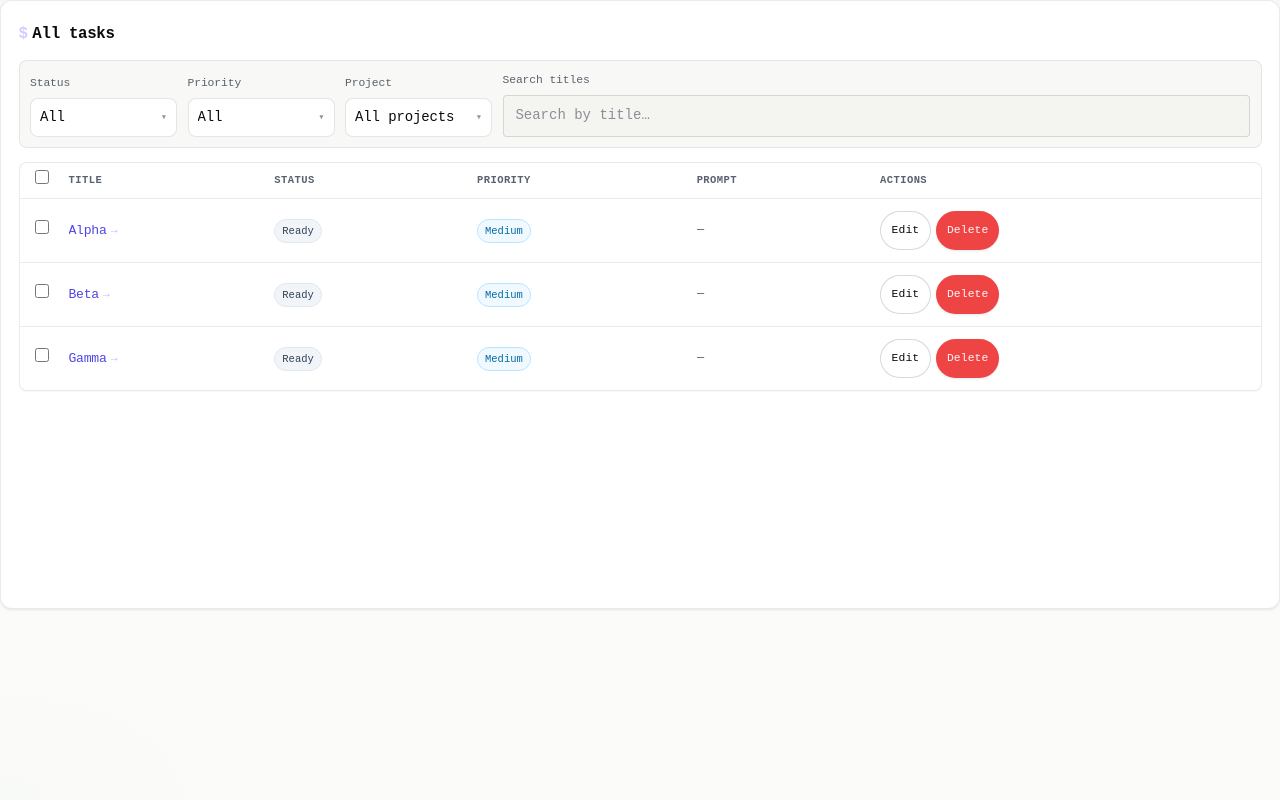
Scenario: TaskListSection › bulk reschedule › Reschedule bulk action PATCHes every selected task with the same ISO
Step 1. Click the checkbox with test id "task-list-select-row-a" → (42, 227), box [35,220,49,234]
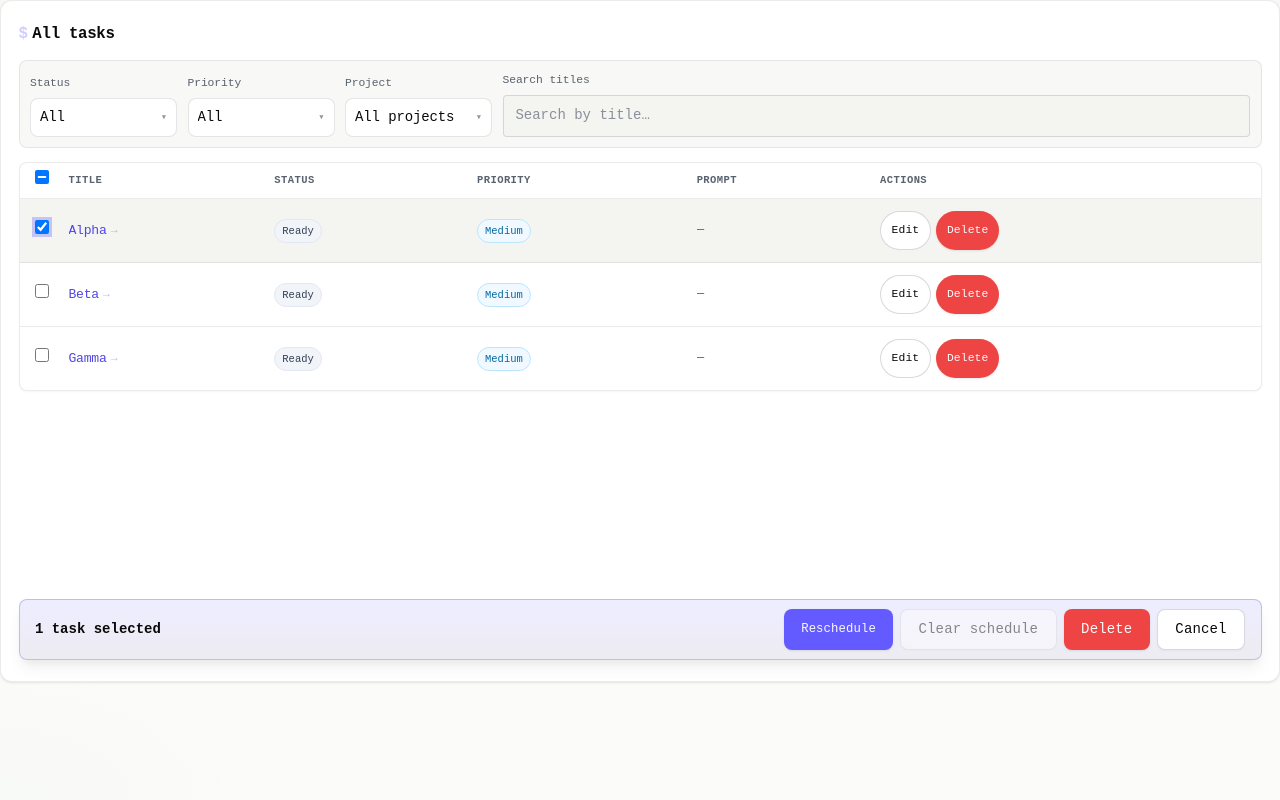
Step 2. Click the checkbox with test id "task-list-select-row-b" → (42, 291), box [35,284,49,298]
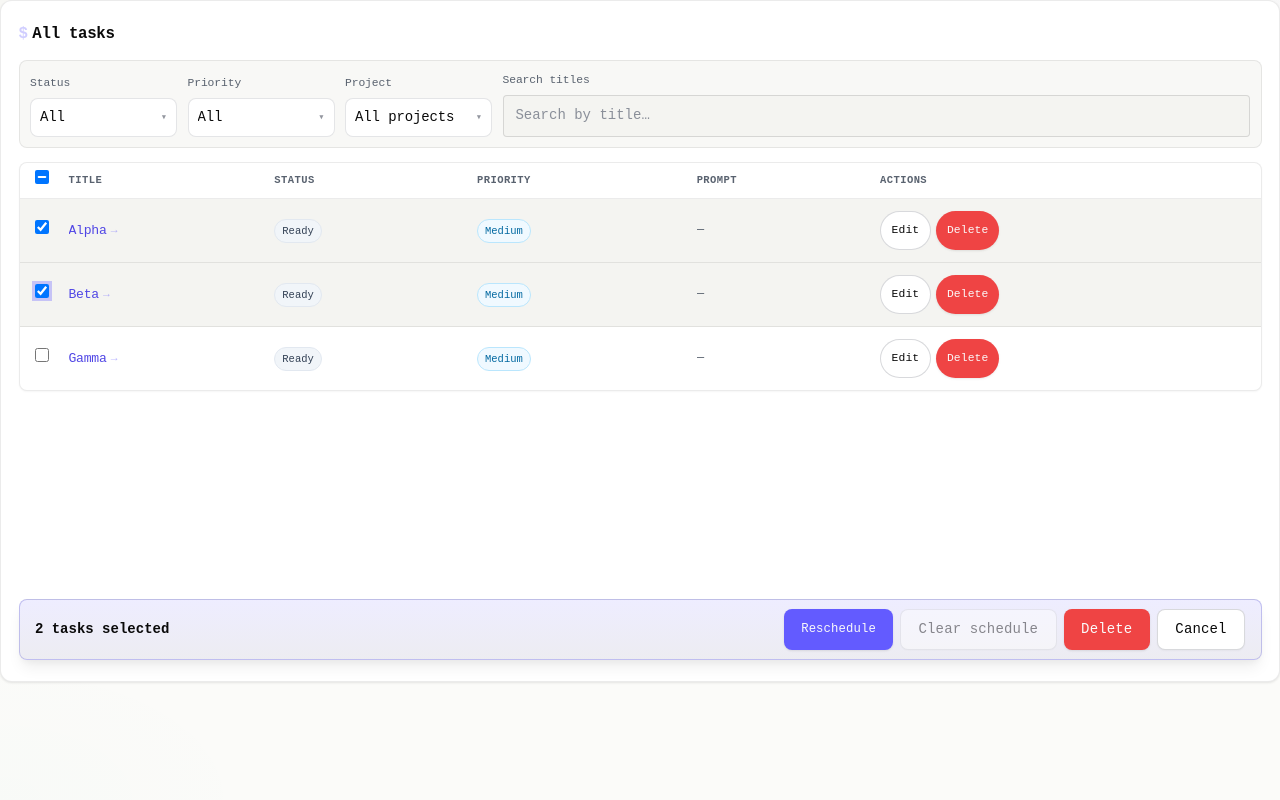
Step 3. Click the checkbox with test id "task-list-select-row-c" → (42, 355), box [35,348,49,362]
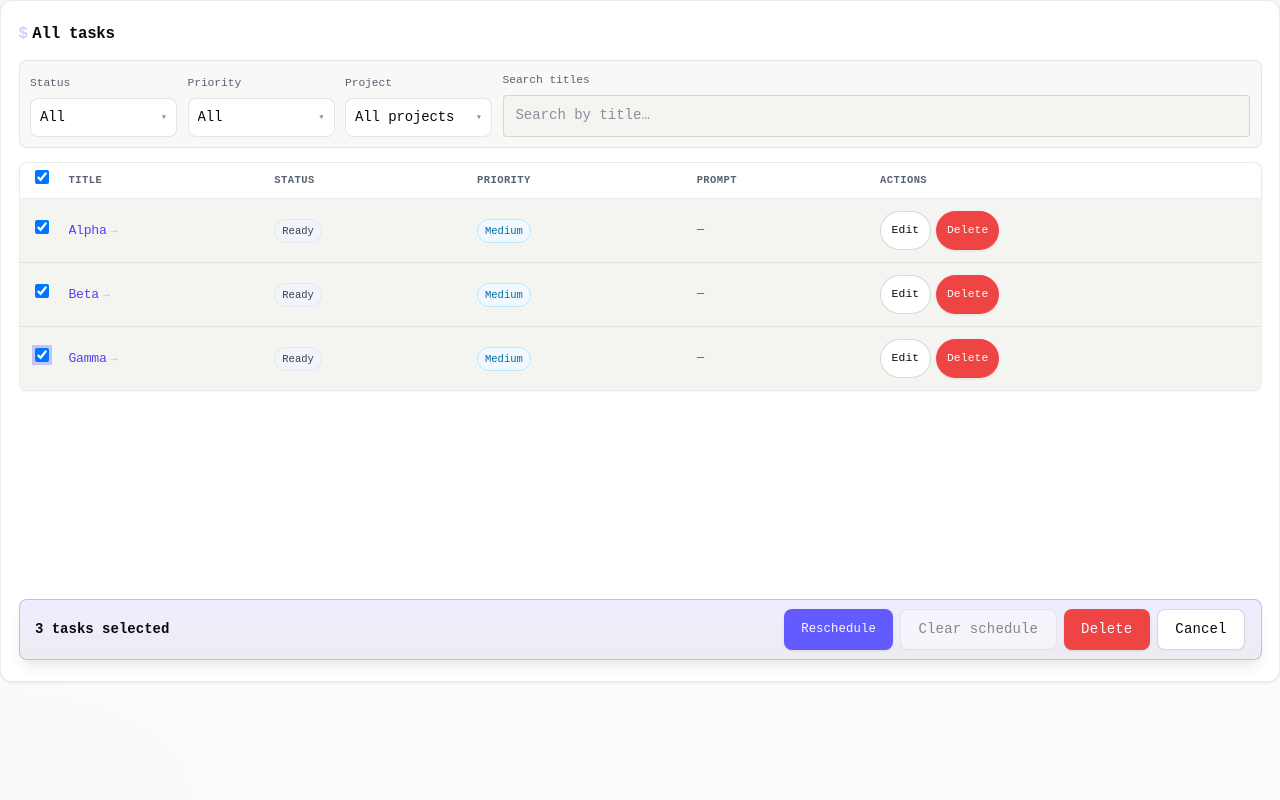
Step 4. Click the button with test id "task-list-bulk-bar-reschedule" → (839, 630), box [784,609,893,650]
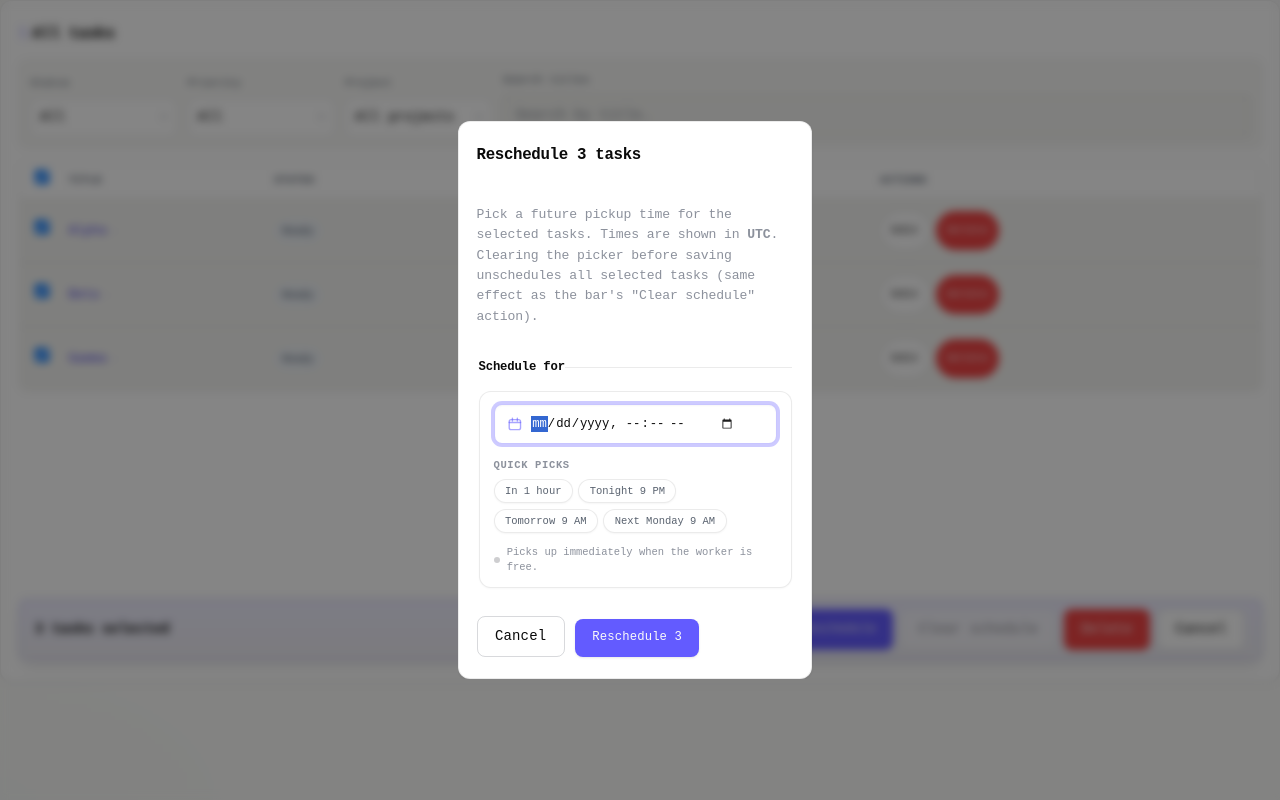
Step 5. Click the button with test id "schedule-picker-in-1h" → (533, 491), box [494,479,573,504]
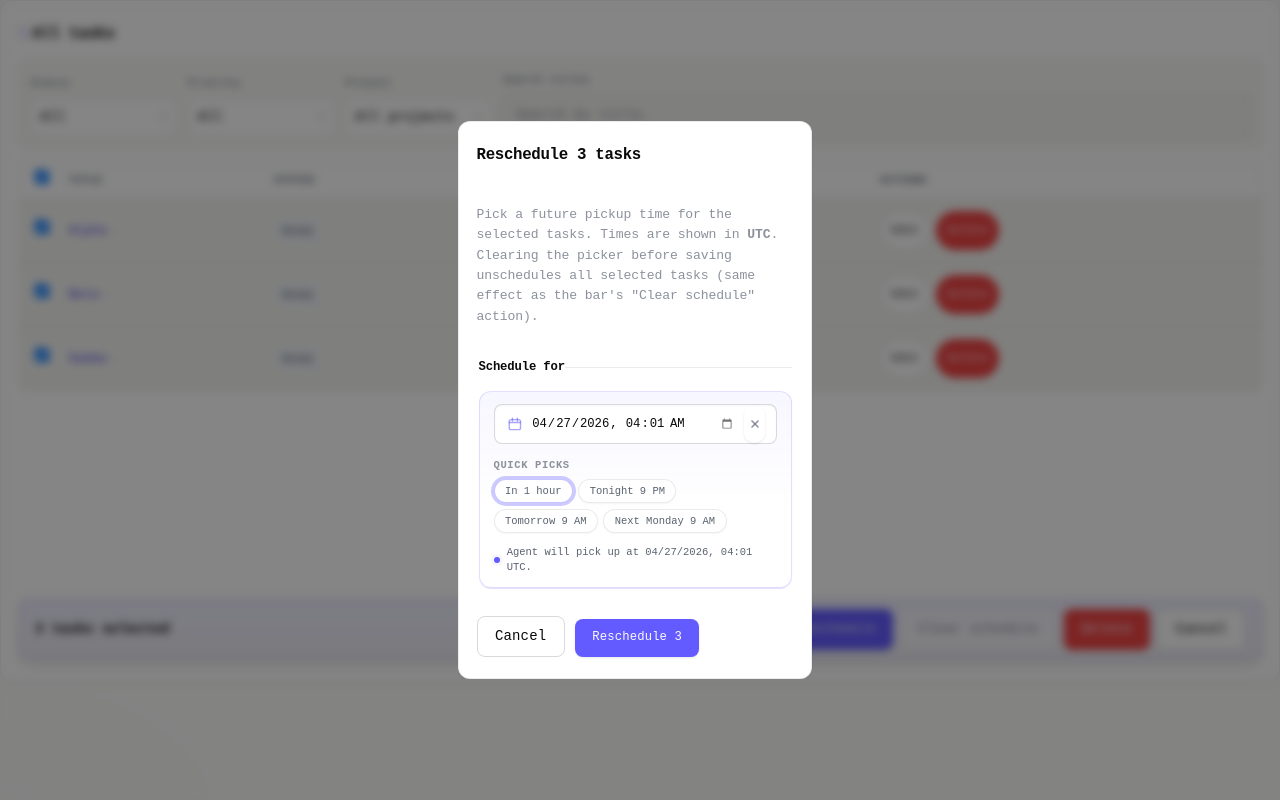
Step 6. Click the button with test id "task-bulk-reschedule-submit" → (637, 638), box [575,619,699,657]
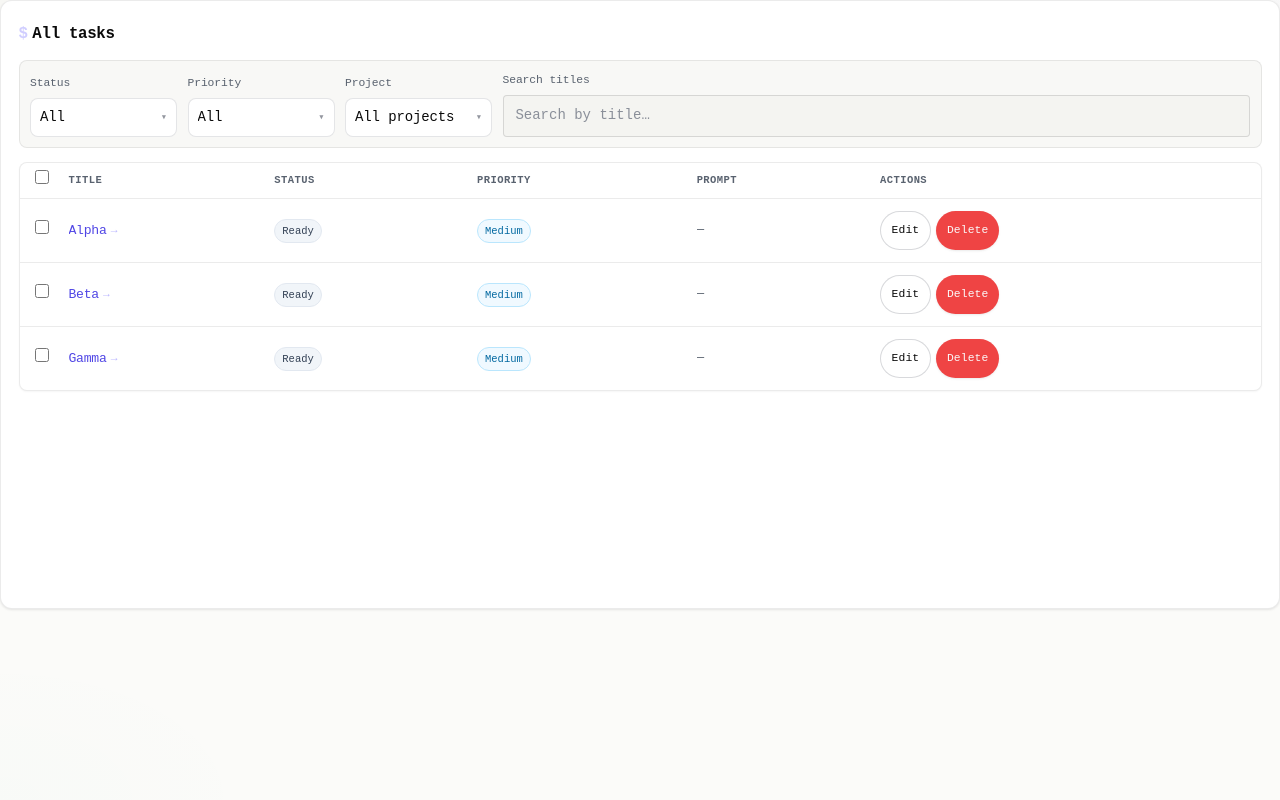
expect the element with test id "task-list-bulk-bar" is gone: met
